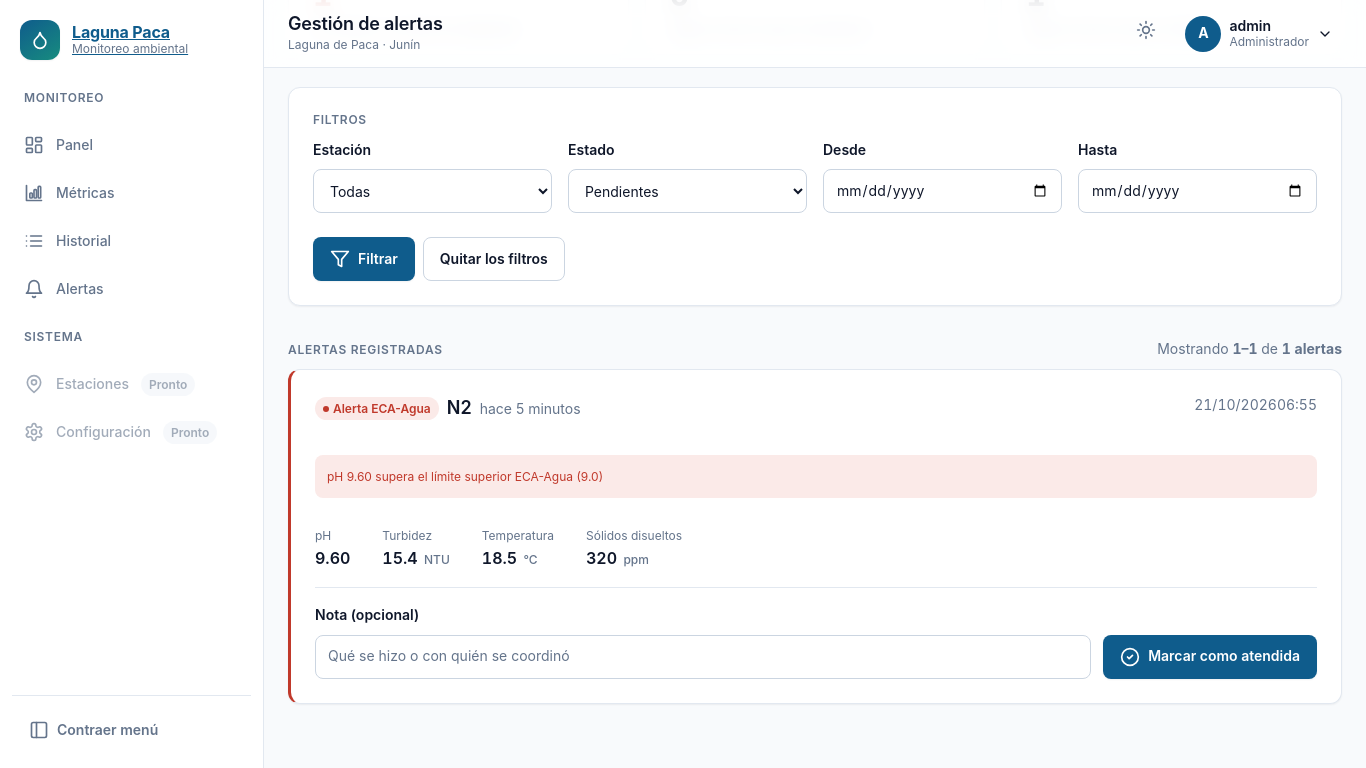
Test: páginas del panel › la gestión de alertas registra la nota y recarga la lista
(page scrolled)
Expected: the text "9.60" is shown, x1=315 y1=546 x2=350 y2=571
Expected: the list item "pH 9.60 supera el límite superior ECA-Agua (9.0)" is shown, x1=327 y1=469 x2=603 y2=484
Type "Se avisó al guardaparque" into the field labelled "Nota (opcional)".
click(703, 657); type("Se avisó al guardaparque")  # box x1=315 y1=635 x2=1091 y2=679
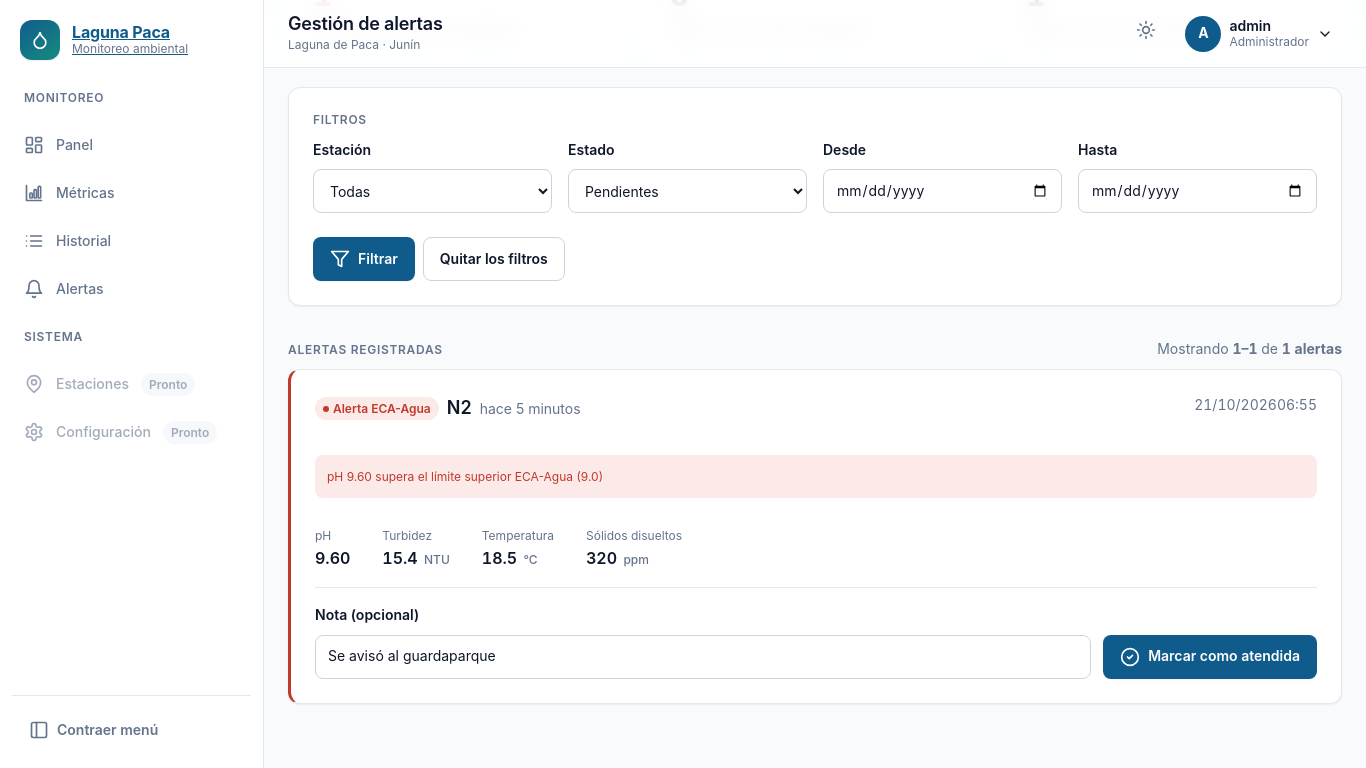
Click the button "Marcar como atendida".
click(1210, 657)  # box x1=1103 y1=635 x2=1317 y2=679
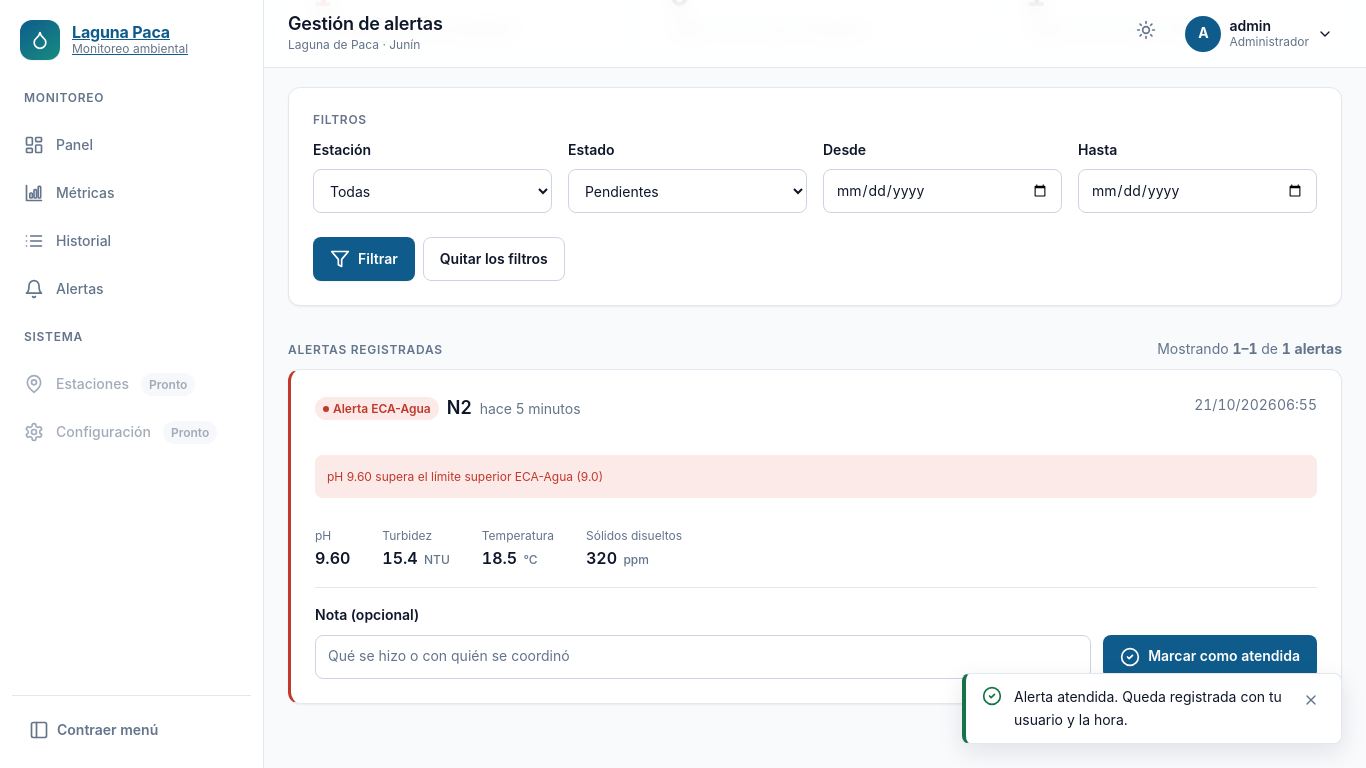
Result: the text "Alerta atendida. Queda registrada con tu usuario y la hora." is shown at x1=1014 y1=686 x2=1285 y2=731
